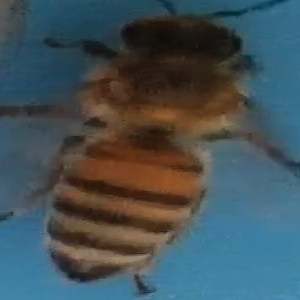bee: (48, 7, 288, 288)
